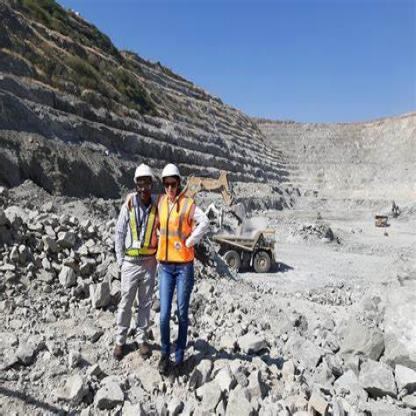person: (109, 150, 161, 357), (155, 162, 203, 372)
